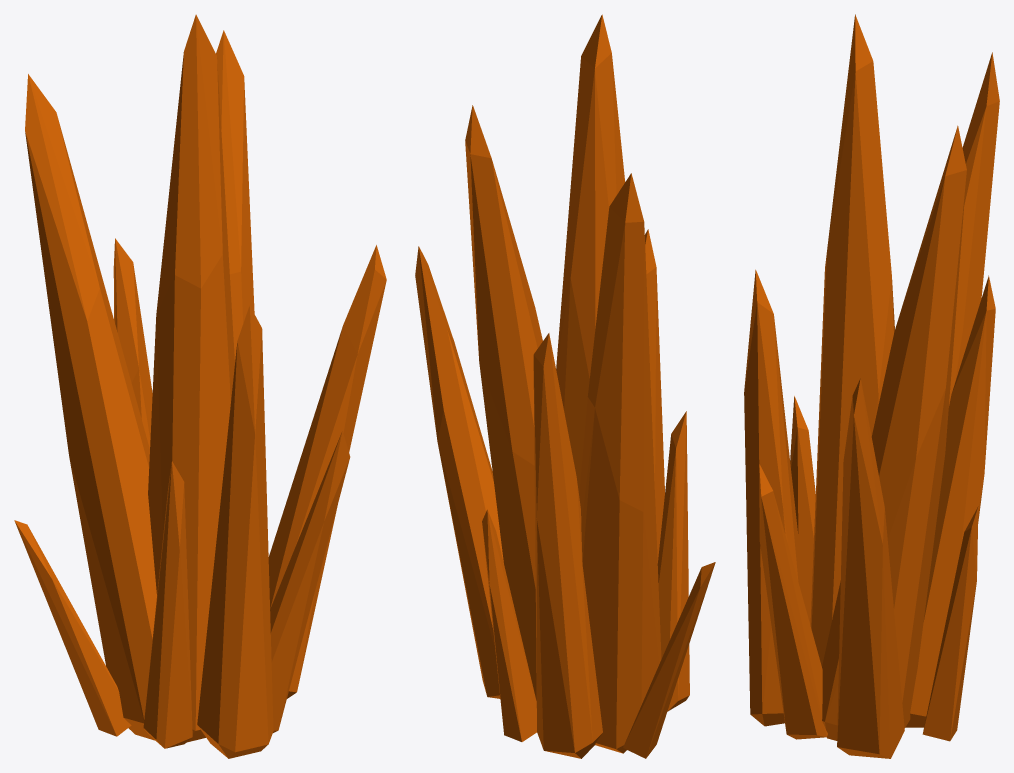
File: Coral.fbx
3 renders of one model, left to right at view 1: azimuth 30°, elevation 25°; view 2: azimuth 150°, elevation 25°; view 3: azimuth 270°, elevation 25°, orthographic.
Parts seen in each view (by area): view 1: Coral; view 2: Coral; view 3: Coral.
Boxes of the visible parts, x1=… form: Coral: x1=14, y1=14, x2=386, y2=758; Coral: x1=415, y1=14, x2=715, y2=758; Coral: x1=744, y1=14, x2=999, y2=758.
Bounding box in the file's own units: 25.17 × 51.49 × 16.6.
